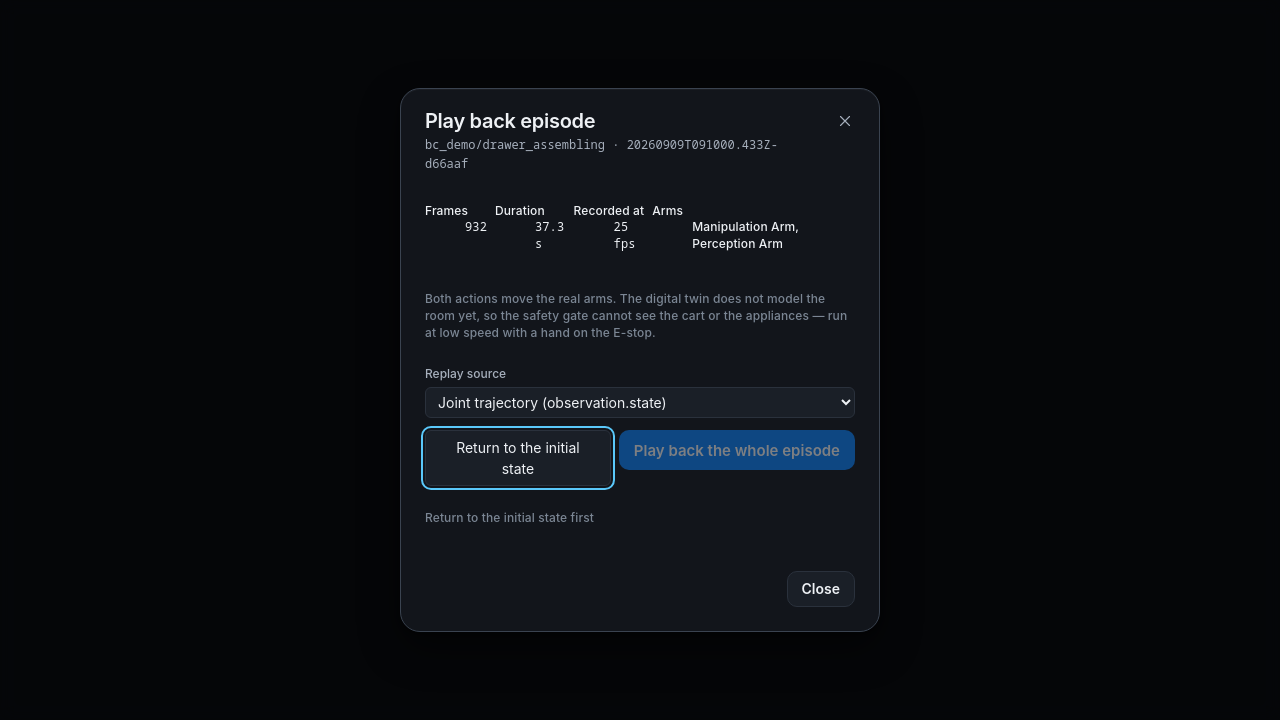
it: PlaybackDialog › the runtime's 'start a session first' is NOT a blocker — the dialog starts one
expect the element with test id "playback-meta" is shown: met, box [425, 200, 855, 255]
Step 1. Click the button with test id "playback-goto-initial" → {"x": 518, "y": 458}, box [425, 430, 611, 486]
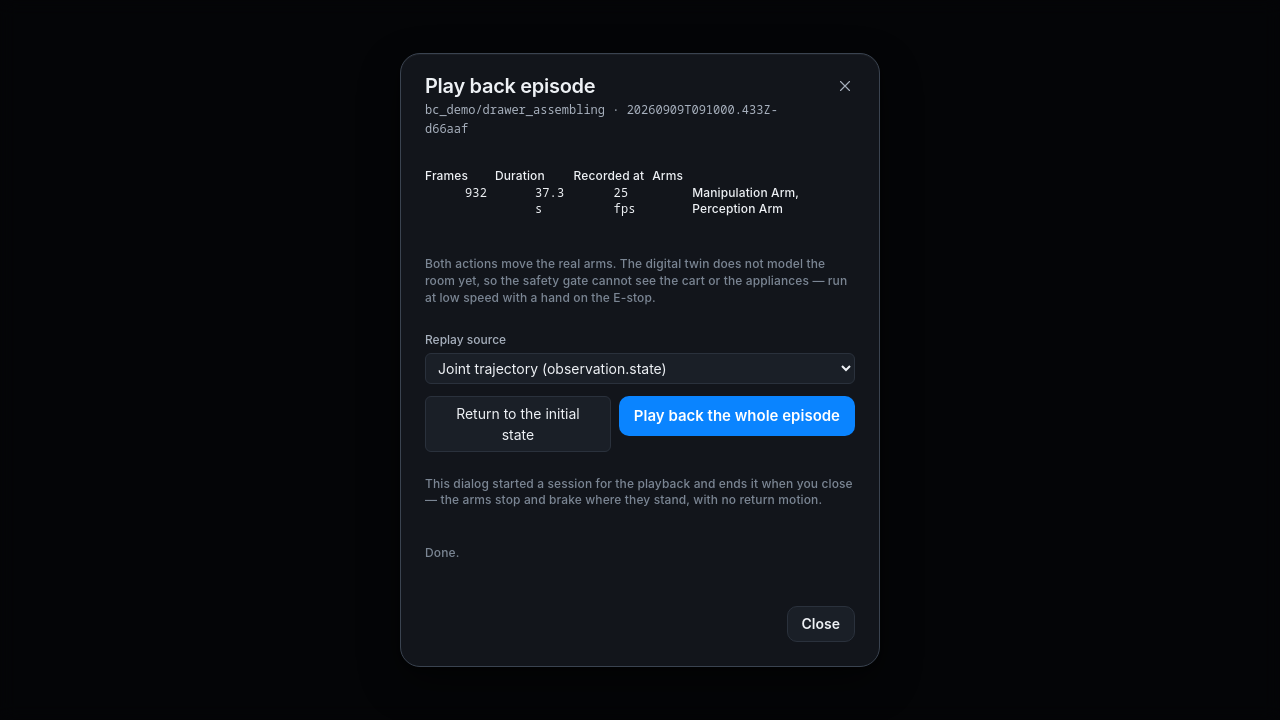
expect the button with test id "playback-play" is enabled: met, box [619, 396, 855, 436]
expect the text with test id "playback-owns-session" is shown: met, box [425, 476, 855, 509]
